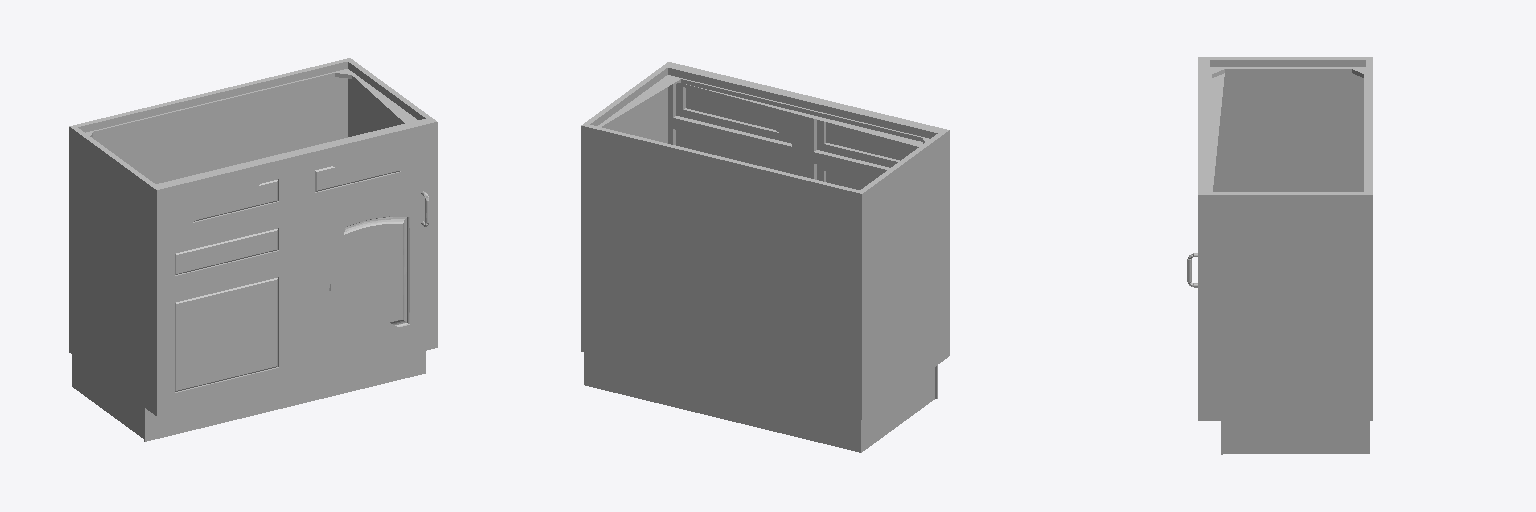
Rendered from yyf_123_b.obj.
The picture shows the model from 3 angles: view 1: azimuth 30°, elevation 25°; view 2: azimuth 150°, elevation 25°; view 3: azimuth 270°, elevation 25°; orthographic projection.
Parts seen in each view (by area): view 1: Mesh001; view 2: Mesh001; view 3: Mesh001.
Boxes of the visible parts, box(x1,y1,x2,y2) form: Mesh001: box(69, 58, 437, 441); Mesh001: box(581, 62, 949, 452); Mesh001: box(1187, 57, 1372, 454).
Size of the model in its own units: 49.53 by 43.81 by 28.26.